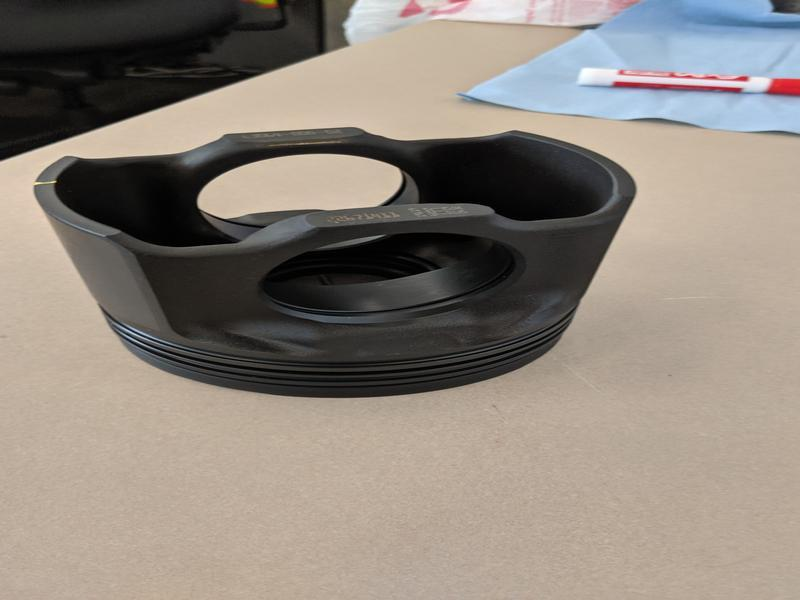piston: (32, 124, 642, 404)
